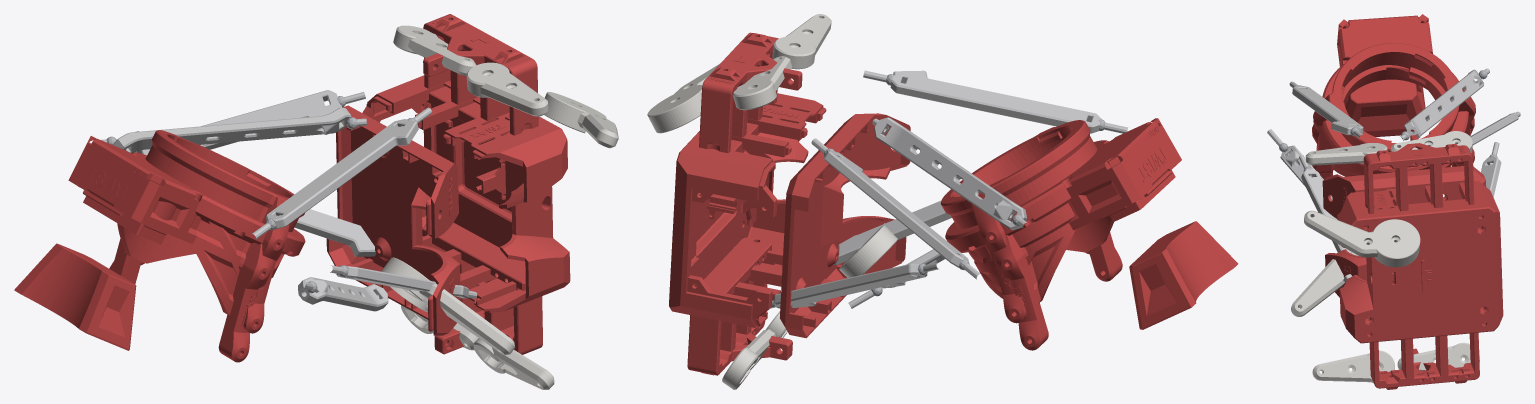
The model's file is ORS6_build2.glb.
The picture shows the model from 3 angles, left to right: view 1: azimuth 30°, elevation 25°; view 2: azimuth 150°, elevation 25°; view 3: azimuth 270°, elevation 25°; orthographic projection. The views are drawn at different scales.
Visible parts, largest first — view 1: p0, p3, p7, p5, p8, p1, p2, p25, p13, p6, p30, p12 (+9 smaller); view 2: p0, p7, p3, p5, p8, p1, p2, p13, p25, p6, p19, p37 (+7 smaller); view 3: p0, p5, p1, p6, p3, p24, p8, p2, p25, p42, p30, p9 (+9 smaller).
Part boxes in pixels (bbox=[...]): p0: bbox=[362, 75, 570, 312]; p3: bbox=[326, 105, 460, 335]; p7: bbox=[68, 147, 300, 362]; p5: bbox=[139, 130, 304, 333]; p8: bbox=[14, 243, 136, 350]; p1: bbox=[423, 14, 538, 135]; p2: bbox=[422, 222, 542, 354]; p25: bbox=[113, 108, 351, 153]; p13: bbox=[265, 119, 418, 229]; p6: bbox=[85, 136, 305, 250]; p30: bbox=[381, 257, 515, 355]; p12: bbox=[466, 62, 548, 116]; p0: bbox=[669, 93, 826, 327]; p7: bbox=[955, 129, 1181, 350]; p3: bbox=[780, 113, 910, 338]; p5: bbox=[941, 120, 1097, 323]; p8: bbox=[1129, 221, 1238, 329]; p1: bbox=[699, 32, 802, 153]; p2: bbox=[687, 237, 792, 375]; p13: bbox=[890, 70, 1101, 133]; p25: bbox=[874, 117, 1026, 230]; p6: bbox=[945, 118, 1164, 247]; p19: bbox=[824, 149, 968, 267]; p37: bbox=[774, 264, 927, 307]; p0: bbox=[1337, 181, 1503, 343]; p5: bbox=[1312, 43, 1475, 173]; p1: bbox=[1363, 135, 1474, 225]; p6: bbox=[1322, 14, 1468, 173]; p3: bbox=[1322, 166, 1486, 297]; p24: bbox=[1304, 210, 1420, 267]; p8: bbox=[1344, 79, 1425, 136]; p2: bbox=[1366, 318, 1484, 389]; p25: bbox=[1404, 69, 1484, 138]; p42: bbox=[1312, 350, 1394, 383]; p30: bbox=[1291, 252, 1358, 316]; p9: bbox=[1343, 65, 1445, 103].
Size of the model in its own units: 425 by 226 by 218.
